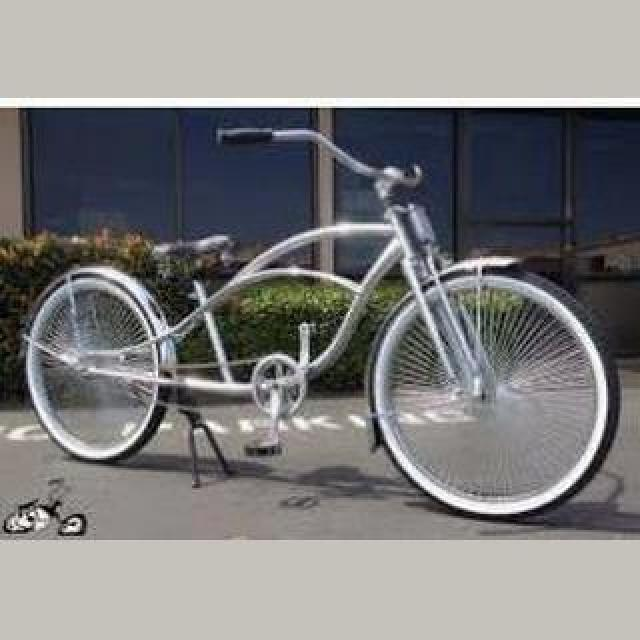Person: (17, 127, 621, 525), (3, 477, 89, 535)
